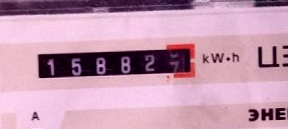1: (44, 56, 56, 75)
2: (143, 52, 155, 72)
5: (69, 56, 81, 76)
7: (168, 59, 179, 73)
8: (94, 54, 106, 75), (119, 54, 131, 75)
screen: (29, 38, 205, 86)
